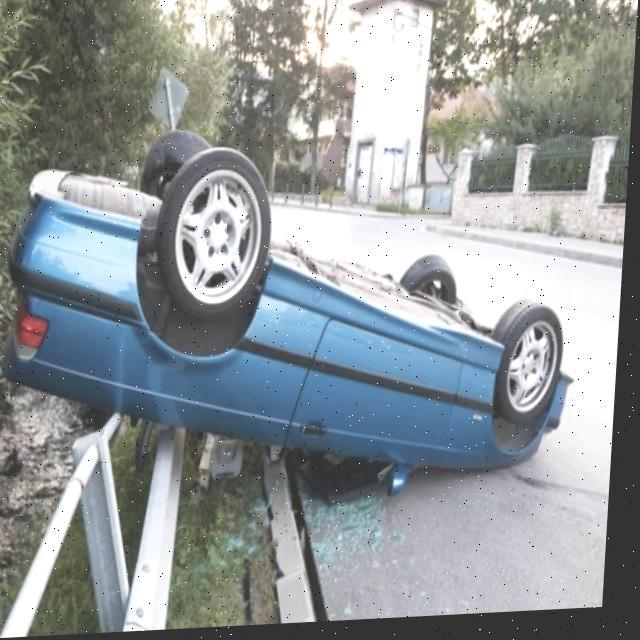single accident: (0, 72, 590, 540)
